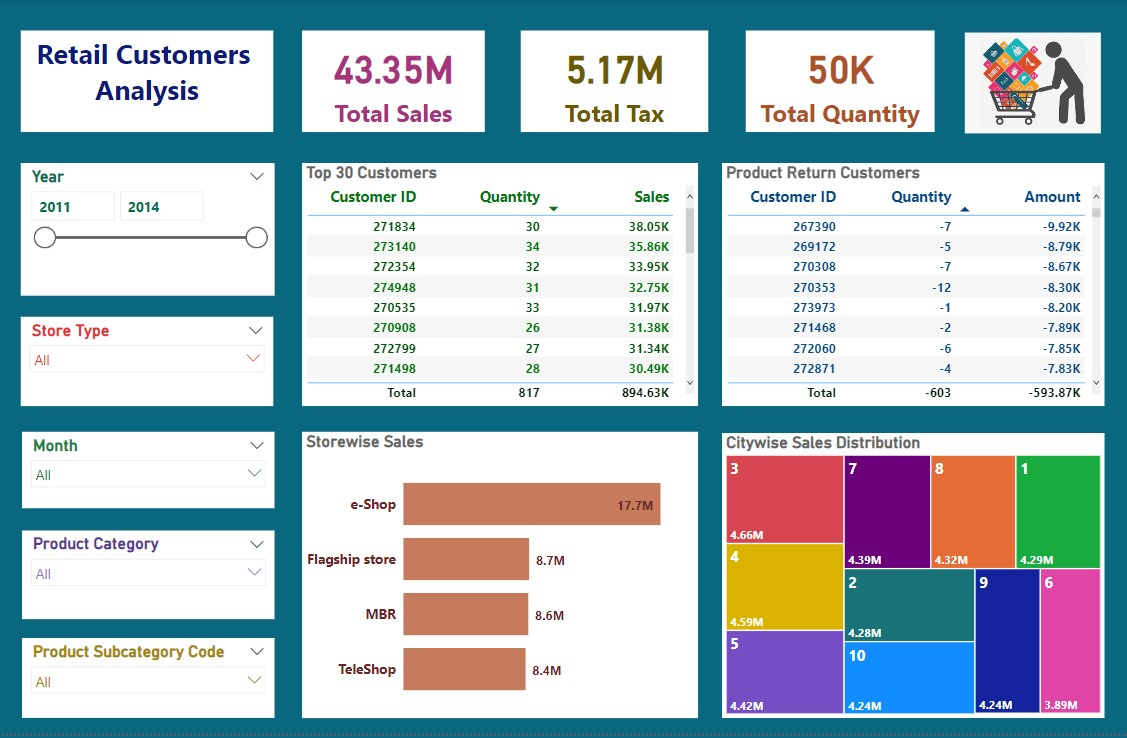

The page's visual inventory and layout, read from the dashboard file:
{"tool":"powerbi","page":{"name":"Insights 2","canvas":[1350,870],"ordinal":2},"visuals":[{"type":"card","fields":{"Values":["Sum(Transactions.Qty)"]},"box":[890.8,39.1,223.1,120.2],"z":0},{"type":"textbox","box":[33.3,39.1,298.4,120.2],"z":1000},{"type":"card","fields":{"Values":["Sum(Transactions.Tax)"]},"box":[624.3,39.1,221.6,120.2],"z":2000},{"type":"card","fields":{"Values":["Sum(Transactions.total_amt)"]},"box":[366.5,39.1,215.8,120.2],"z":3000},{"type":"image","box":[1144.3,18.8,170.9,162.2],"z":4000},{"type":"barChart","title":"Storewise Sales","fields":{"Category":["Transactions.Store_type"],"Y":["Sum(Transactions.total_amt)"]},"box":[366.3,512.5,468.2,338.3],"z":5000},{"type":"slicer","fields":{"Values":["Transactions.Store_type"]},"box":[33.3,376.6,298.4,105.7],"z":8000},{"type":"slicer","fields":{"Values":["Transactions.Transaction_year"]},"box":[33.3,195.5,299.8,156.4],"z":9000},{"type":"treemap","title":"Citywise Sales Distribution","fields":{"Values":["Sum(Transactions.total_amt)"],"Group":["Customers.city_code"]},"box":[862.6,514,452,336.8],"z":10000},{"type":"tableEx","title":"Top 30 Customers","fields":{"Values":["Transactions.cust_id","Sum(Transactions.Qty)","Sum(Transactions.total_amt)"]},"box":[366.5,195.5,467.9,286.8],"z":11000},{"type":"tableEx","title":"Product Return Customers","fields":{"Values":["Transactions.cust_id","Sum(Transactions.Qty)","Sum(Transactions.total_amt)"]},"box":[863.3,195.5,451.9,286.8],"z":12000},{"type":"slicer","fields":{"Values":["Transactions.Transaction_month"]},"box":[35.4,512.5,298.4,90.1],"z":12001},{"type":"slicer","fields":{"Values":["Product categories.prod_cat"]},"box":[35.4,629.2,298.4,104.9],"z":12002},{"type":"slicer","fields":{"Values":["Product subcategories.prod_sub_cat_code"]},"box":[35.4,756.3,298.4,94.5],"z":12003}]}

Visuals, with their boxes in screenshot pixels (x1, y1, x2, y2), scaled from the page's 1350x870 canvas onto the 1127x738 screenshot:
card - Sum(Transactions.Qty): 744:33:930:135
textbox: 28:33:277:135
card - Sum(Transactions.Tax): 521:33:706:135
card - Sum(Transactions.total_amt): 306:33:486:135
image: 955:16:1098:154
"Storewise Sales" barChart: 306:435:697:722
slicer - Transactions.Store_type: 28:319:277:409
slicer - Transactions.Transaction_year: 28:166:278:299
"Citywise Sales Distribution" treemap: 720:436:1097:722
"Top 30 Customers" tableEx: 306:166:697:409
"Product Return Customers" tableEx: 721:166:1098:409
slicer - Transactions.Transaction_month: 30:435:279:511
slicer - Product categories.prod_cat: 30:534:279:623
slicer - Product subcategories.prod_sub_cat_code: 30:642:279:722
